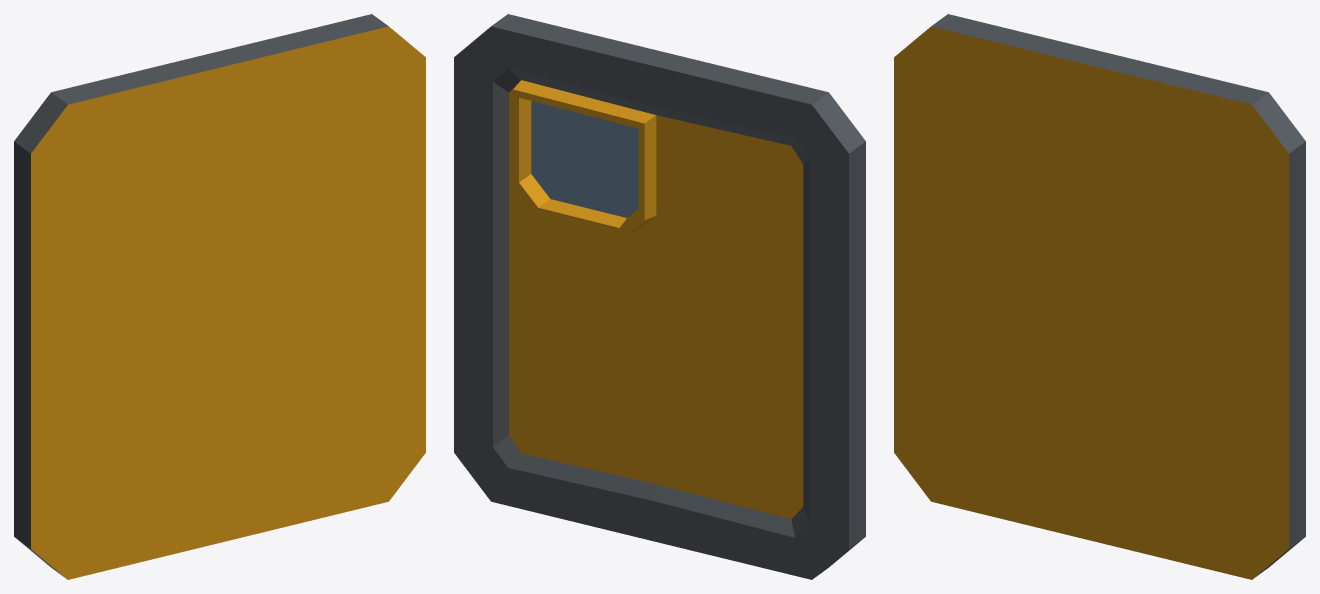
File: Mothership_01_Cargo_Door_Yellow.fbx
3 renders of one model, left to right at view 1: azimuth 30°, elevation 25°; view 2: azimuth 150°, elevation 25°; view 3: azimuth 330°, elevation 25°, orthographic.
Parts seen in each view (by area): view 1: Mothership_01_Cargo_Door_Yellow; view 2: Mothership_01_Cargo_Door_Yellow; view 3: Mothership_01_Cargo_Door_Yellow.
Boxes of the visible parts, <box> form: Mothership_01_Cargo_Door_Yellow: <box>14,14,425,579</box>; Mothership_01_Cargo_Door_Yellow: <box>454,14,865,579</box>; Mothership_01_Cargo_Door_Yellow: <box>894,14,1305,579</box>.
Bounding box in the file's own units: 1289 × 1481 × 125.
Materials: 2 (2 with a texture image).
